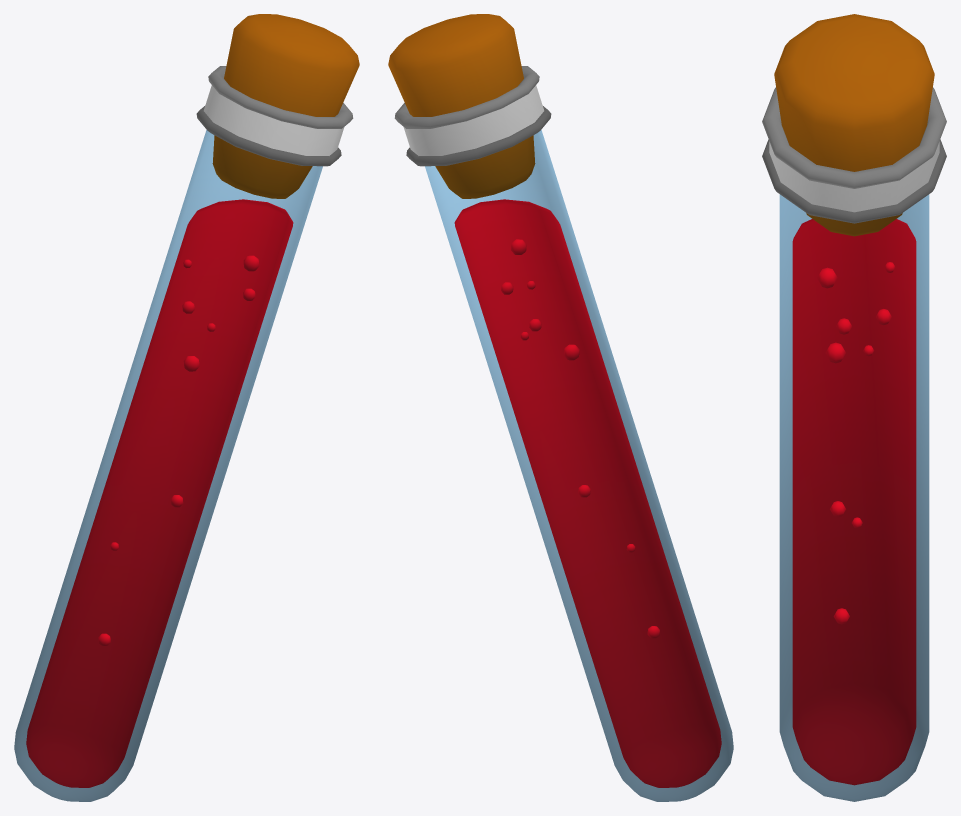
The model's file is vial.gltf.
3 renders of one model, left to right at view 1: azimuth 30°, elevation 25°; view 2: azimuth 150°, elevation 25°; view 3: azimuth 270°, elevation 25°, orthographic. The views are drawn at different scales.
Parts seen in each view (by area): view 1: Cylinder002_Potion_001_0, Cylinder001_Potion_001_0, Cylinder005, Cylinder004, Sphere002; view 2: Cylinder002_Potion_001_0, Cylinder001_Potion_001_0, Cylinder005, Cylinder004, Sphere002; view 3: Cylinder002_Potion_001_0, Cylinder005, Cylinder001_Potion_001_0, Cylinder004, Sphere002.
Part boxes in pixels (x1,y1,x2,y2): Cylinder002_Potion_001_0: (26, 199, 293, 787); Cylinder001_Potion_001_0: (14, 130, 322, 801); Cylinder005: (212, 14, 359, 198); Cylinder004: (196, 66, 353, 166); Sphere002: (98, 255, 259, 645); Cylinder002_Potion_001_0: (454, 199, 721, 787); Cylinder001_Potion_001_0: (425, 130, 733, 801); Cylinder005: (388, 14, 535, 198); Cylinder004: (394, 66, 551, 166); Sphere002: (501, 239, 659, 638); Cylinder002_Potion_001_0: (792, 219, 916, 785); Cylinder005: (774, 14, 934, 236); Cylinder001_Potion_001_0: (779, 194, 929, 801); Cylinder004: (762, 87, 946, 223); Sphere002: (817, 262, 895, 624).
Size of the model in its own units: 30.83 by 65 by 12.34.
1 material, 1 textured.
